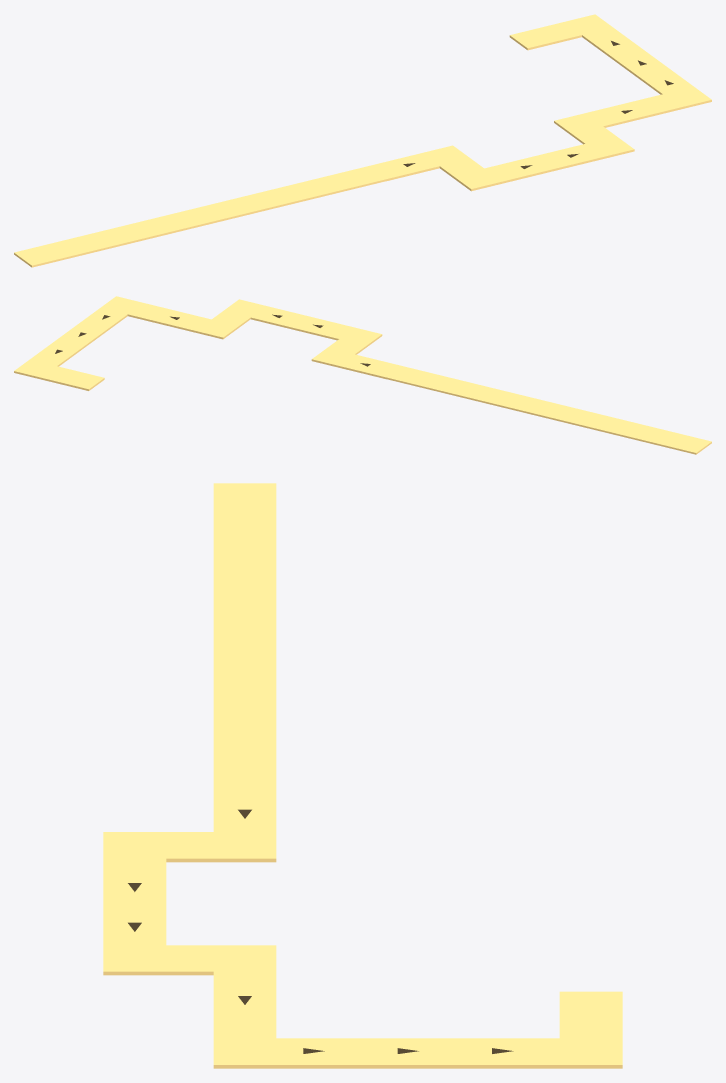
Rendered from Nivel_03_Hojarasquin_Movil_Gameplay.fbx.
3 views of the same model, one above another, from view 1: azimuth 30°, elevation 25°; view 2: azimuth 150°, elevation 25°; view 3: azimuth 270°, elevation 25° (orthographic). The views are drawn at different scales.
Visible parts, largest first — view 1: L03_Path_Extension_W_GP, L03_Path_v5_06_GP, L03_Path_v5_03_GP, L03_Path_v5_05_GP, L03_Path_v5_01_GP, L03_Path_v5_07_GP, L03_Path_v5_02_GP, L03_Path_v5_04_GP; view 2: L03_Path_Extension_W_GP, L03_Path_v5_06_GP, L03_Path_v5_03_GP, L03_Path_v5_05_GP, L03_Path_v5_01_GP, L03_Path_v5_07_GP, L03_Path_v5_04_GP, L03_Path_v5_02_GP; view 3: L03_Path_Extension_W_GP, L03_Path_v5_06_GP, L03_Path_v5_03_GP, L03_Path_v5_05_GP, L03_Path_v5_01_GP, L03_Path_v5_02_GP, L03_Path_v5_04_GP, L03_Path_v5_07_GP.
Part boxes in pixels (x1,y1,x2,y2): L03_Path_Extension_W_GP: [14, 166, 385, 267]; L03_Path_v5_06_GP: [564, 14, 693, 94]; L03_Path_v5_03_GP: [484, 136, 634, 183]; L03_Path_v5_05_GP: [585, 86, 711, 127]; L03_Path_v5_01_GP: [368, 145, 470, 181]; L03_Path_v5_07_GP: [509, 22, 581, 50]; L03_Path_v5_02_GP: [439, 158, 502, 191]; L03_Path_v5_04_GP: [554, 113, 616, 144]; L03_Path_Extension_W_GP: [386, 366, 711, 454]; L03_Path_v5_06_GP: [14, 307, 127, 379]; L03_Path_v5_03_GP: [223, 299, 354, 340]; L03_Path_v5_05_GP: [101, 296, 211, 332]; L03_Path_v5_01_GP: [311, 347, 401, 379]; L03_Path_v5_07_GP: [41, 366, 104, 390]; L03_Path_v5_04_GP: [196, 311, 250, 339]; L03_Path_v5_02_GP: [328, 327, 382, 354]; L03_Path_Extension_W_GP: [213, 483, 276, 785]; L03_Path_v5_06_GP: [276, 1038, 622, 1068]; L03_Path_v5_03_GP: [103, 858, 166, 975]; L03_Path_v5_05_GP: [213, 971, 276, 1068]; L03_Path_v5_01_GP: [213, 786, 276, 862]; L03_Path_v5_02_GP: [103, 832, 213, 862]; L03_Path_v5_04_GP: [166, 945, 276, 975]; L03_Path_v5_07_GP: [559, 991, 622, 1038].
Size of the model in its own units: 43.72 by 0.145 by 16.5.
